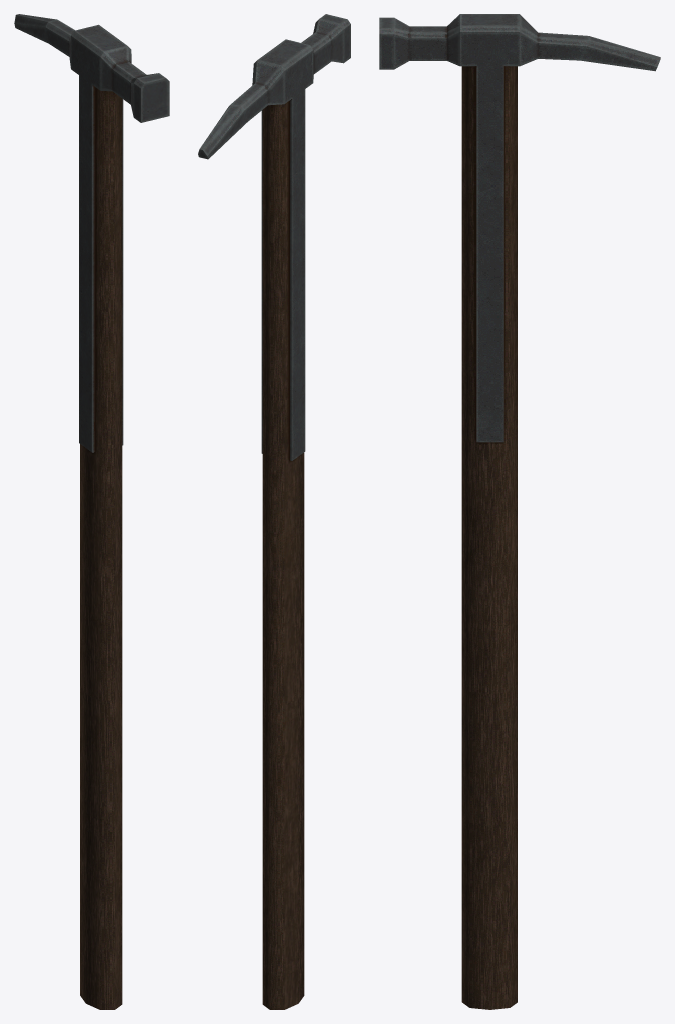
Rendered from war_hammer.glb.
3 renders of one model, left to right at view 1: azimuth 30°, elevation 25°; view 2: azimuth 150°, elevation 25°; view 3: azimuth 270°, elevation 25°, orthographic. The views are drawn at different scales.
Parts seen in each view (by area): view 1: war_hammer; view 2: war_hammer; view 3: war_hammer.
Part boxes in pixels (bbox=[...]): war_hammer: bbox=[14, 14, 169, 1009]; war_hammer: bbox=[198, 14, 350, 1009]; war_hammer: bbox=[379, 14, 660, 1009].
Size of the model in its own units: 0.049 by 1.45 by 0.3764.
1 material, 1 textured.
